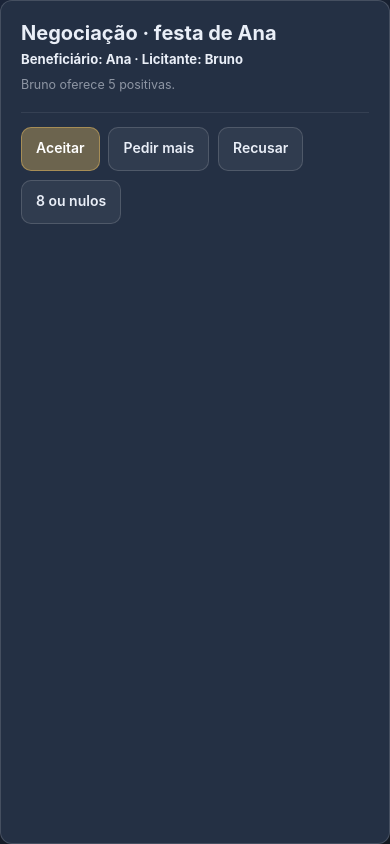
Scenario: King festa decision surfaces › shows negotiation roles and the four legal actions
The width and height of the screenshot is (390, 844).
Click the button "Pedir mais": (159,149) [108,127,209,171]
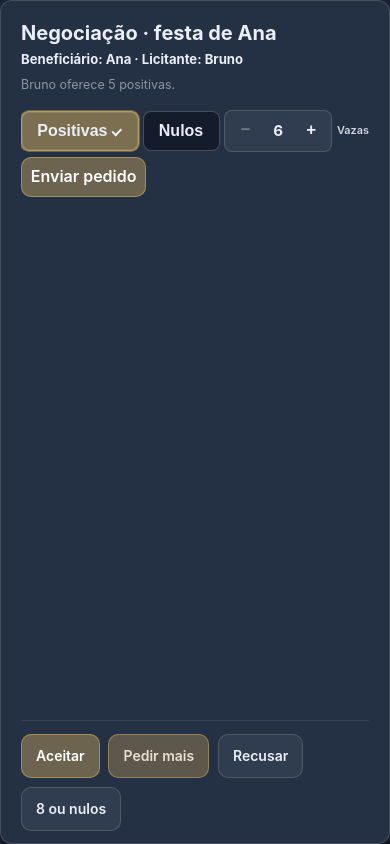
Expected: the text "Enviar pedido" is shown, [21,157,146,197]
